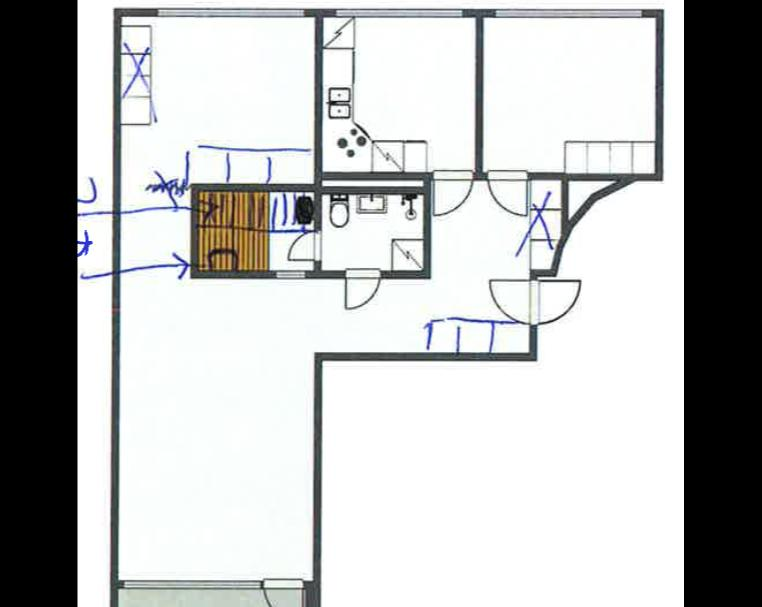bathroom: (321, 190, 425, 269)
door: (527, 274, 584, 326), (485, 274, 537, 326), (427, 162, 477, 216), (482, 166, 529, 216), (344, 264, 382, 310), (260, 573, 306, 607), (284, 227, 325, 262)
perimeter: (114, 5, 664, 585)
window: (152, 0, 312, 19), (487, 3, 646, 20), (117, 576, 264, 592), (330, 4, 469, 20), (272, 266, 312, 282)
